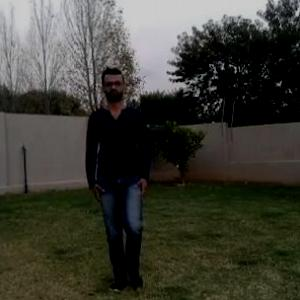follow: (98, 80, 148, 277)
